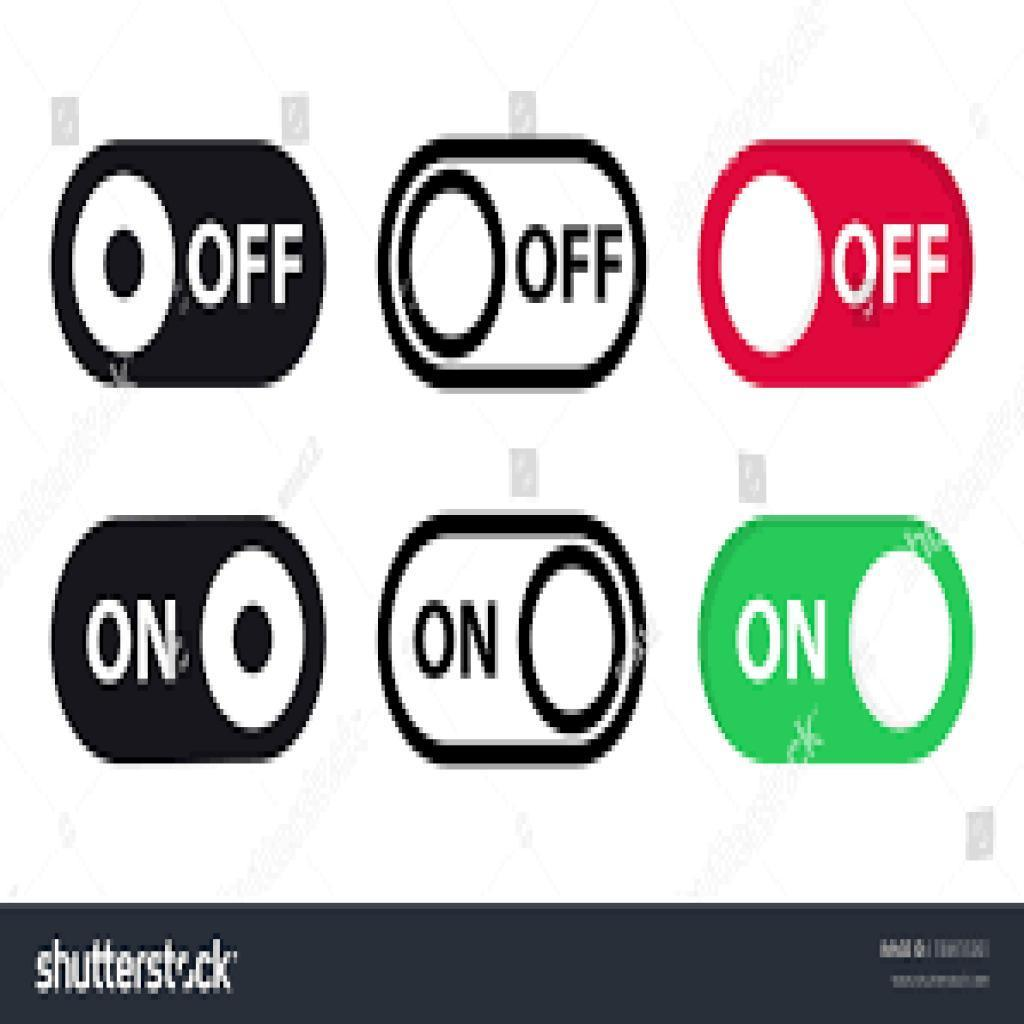switch: (695, 139, 976, 394), (375, 134, 649, 391), (51, 515, 328, 768), (376, 514, 650, 769), (697, 514, 970, 769), (52, 140, 330, 387)
